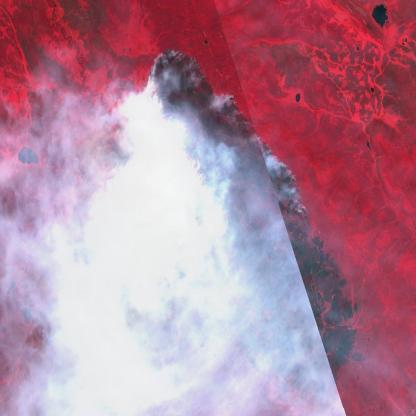fire: (138, 43, 313, 375)
